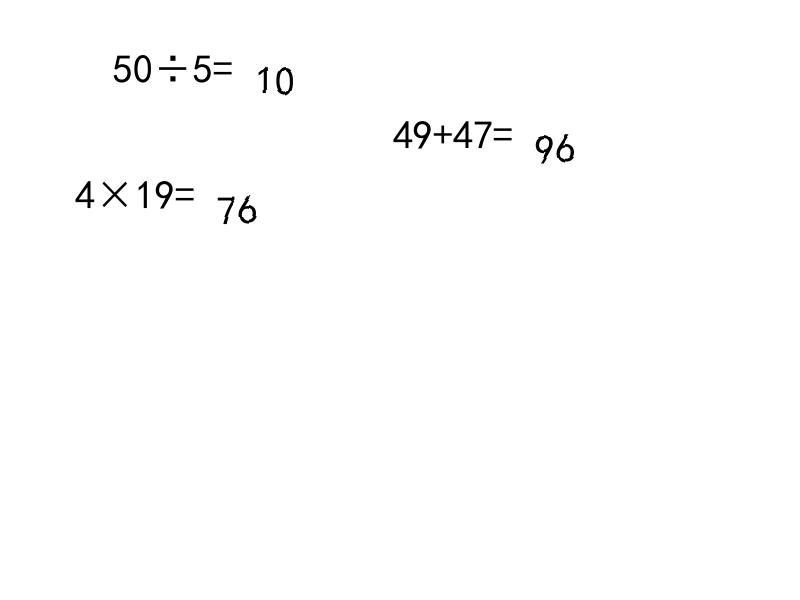+: (433, 114, 453, 142)
0: (133, 48, 153, 77), (263, 48, 283, 77)
1: (243, 48, 263, 77), (135, 174, 155, 202)
4: (393, 114, 413, 142), (453, 114, 473, 142), (75, 174, 95, 202)
5: (113, 48, 133, 77), (193, 48, 213, 77)
6: (543, 114, 563, 142), (225, 174, 245, 202)
7: (473, 114, 493, 142), (205, 174, 225, 202)
9: (413, 114, 433, 142), (523, 114, 543, 142), (155, 174, 175, 202)
=: (213, 48, 233, 77), (493, 114, 513, 142), (175, 174, 195, 202)
×: (95, 174, 135, 202)
÷: (153, 48, 193, 77)
